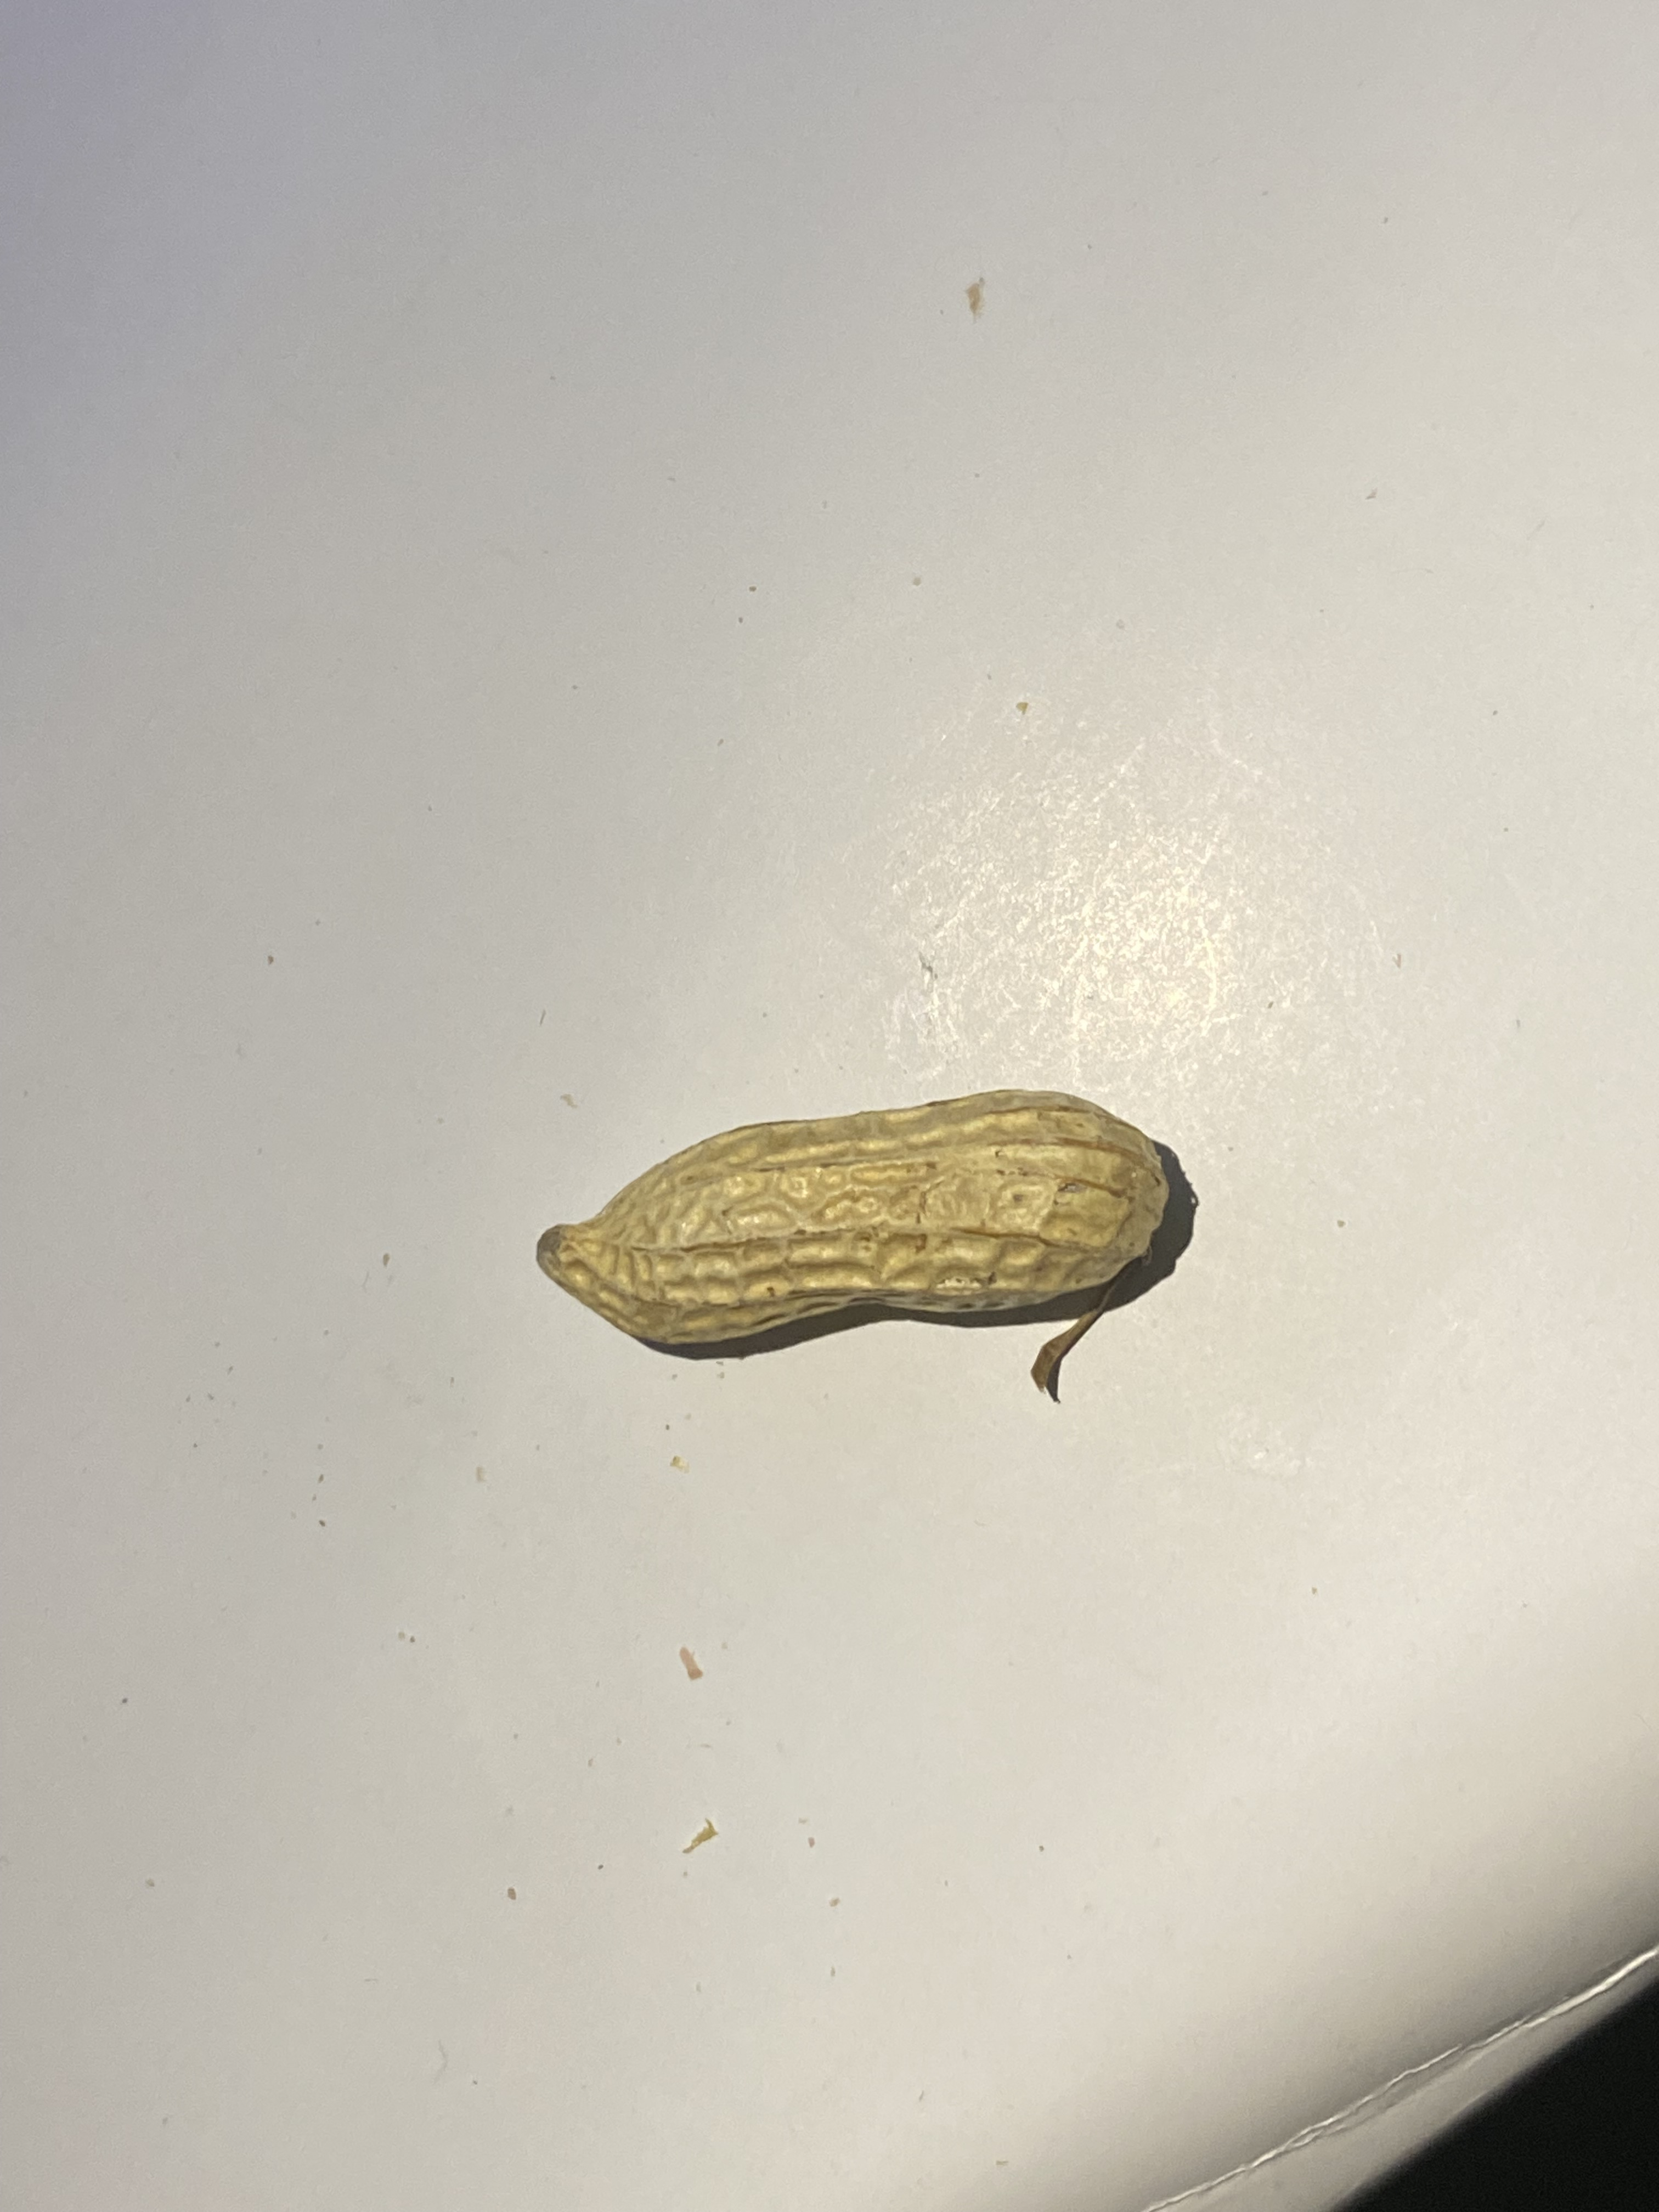kacang2: (484, 1071, 1246, 1390)
